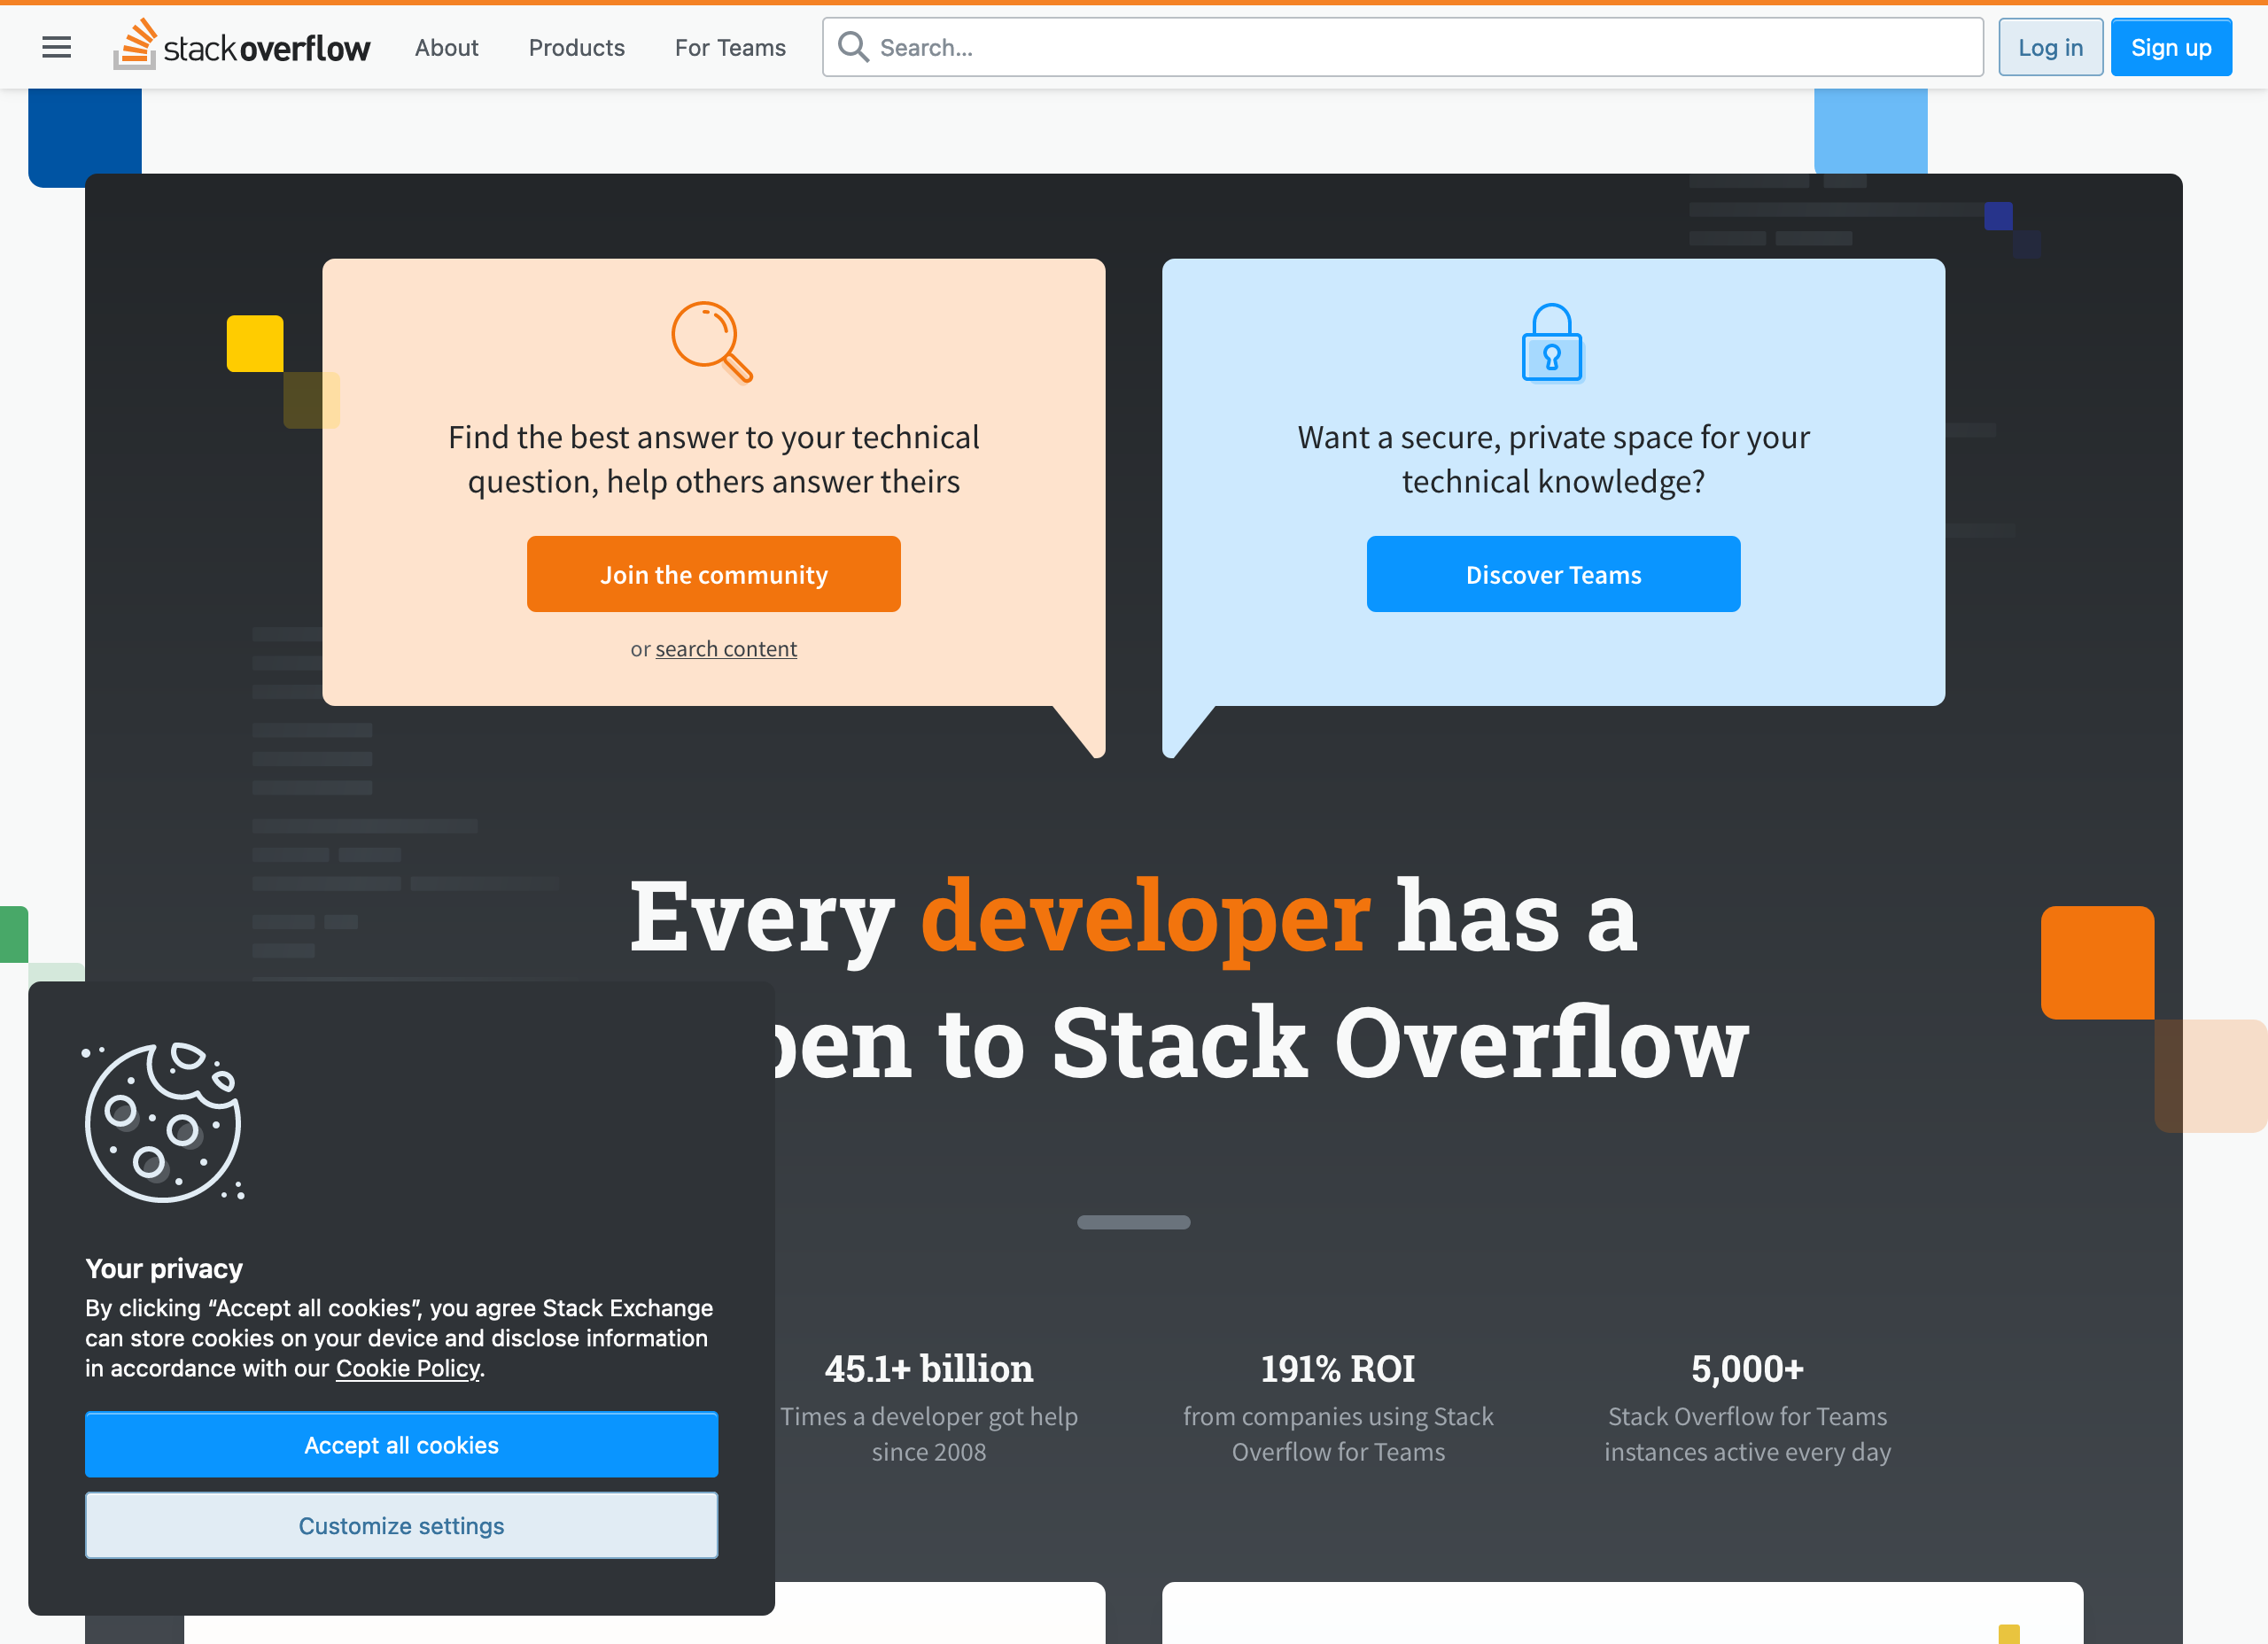Login: (1995, 14, 2104, 79)
